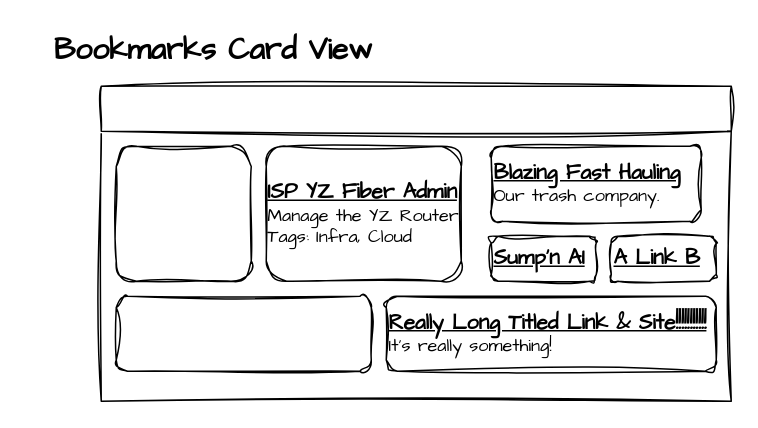
Image size: 758x428. Some labels were removed from this diagram. The centre of each missing label's shape, as x and y in pixels:
"General" belongs at pixel 415 108.
"HVAC Ctrl HVAC local network management. Tags: Infra" belongs at pixel 183 213.
"Registrar ABC (Domains) The place where I get my domains from." belongs at pixel 243 333.
